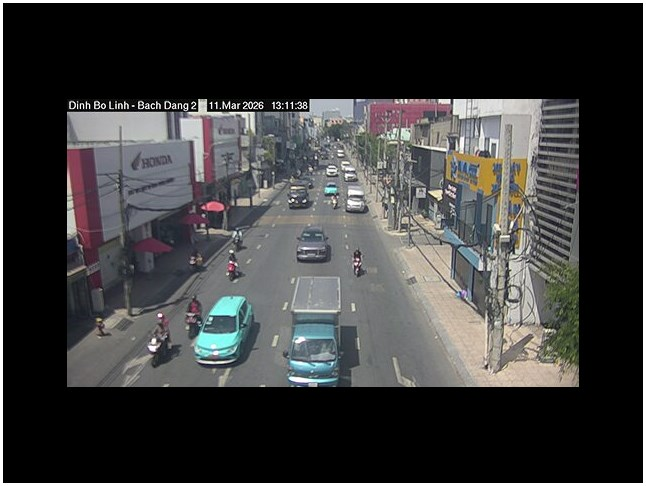car: (191, 294, 258, 363), (295, 226, 332, 263), (287, 188, 310, 208), (346, 195, 368, 213), (342, 168, 358, 182)
truck: (283, 274, 342, 386)
